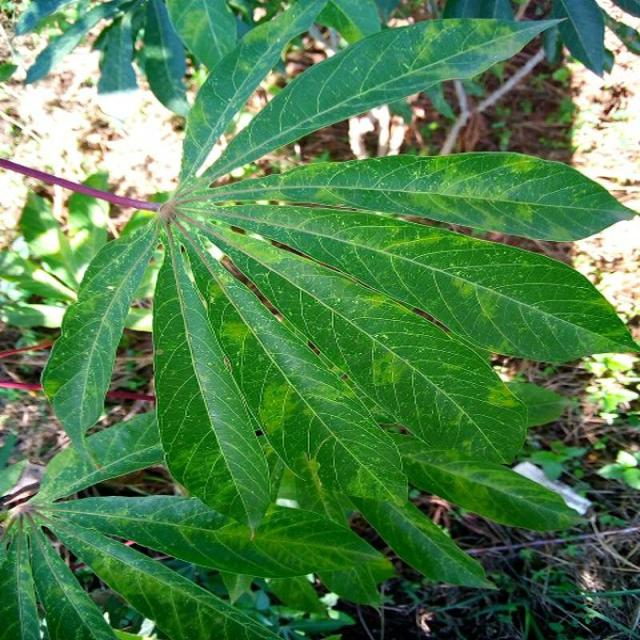cassava leaf: (2, 2, 637, 612), (150, 228, 272, 537)
